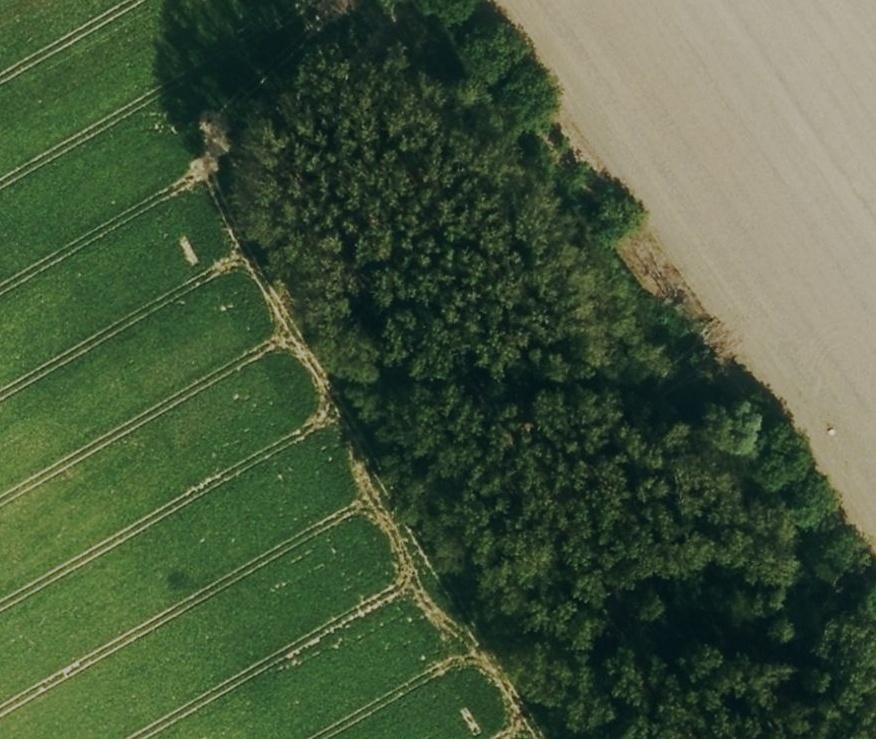field: (0, 0, 534, 737), (500, 0, 876, 547)
forest: (226, 3, 876, 736)
